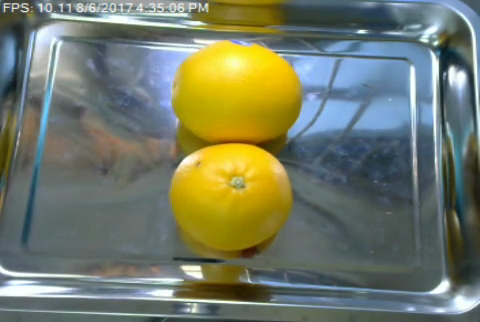Orange: (170, 40, 302, 142), (169, 142, 293, 250)
